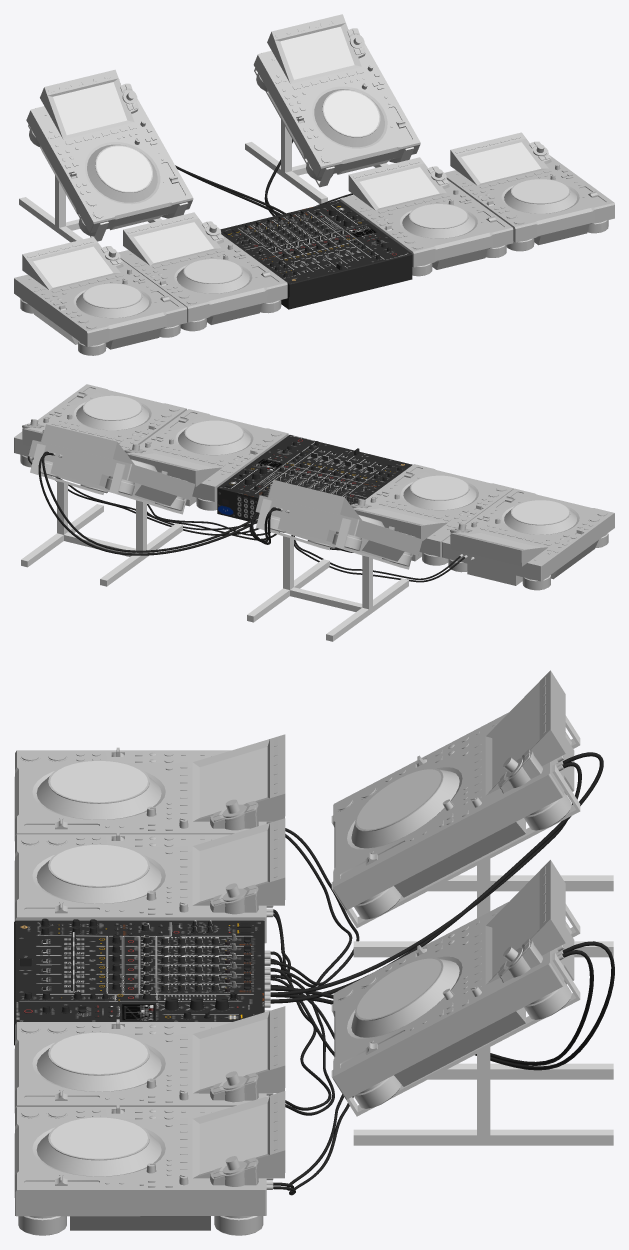
File: Pack6.fbx
3 views of the same model, one above another, from view 1: azimuth 30°, elevation 25°; view 2: azimuth 150°, elevation 25°; view 3: azimuth 270°, elevation 25° (orthographic). The views are drawn at different scales.
Parts seen in each view (by area): view 1: DJM-V10, Stand, Cables; view 2: DJM-V10, Stand, Cables; view 3: DJM-V10, Stand, Cables.
Part boxes in pixels (x1,y1,x2,y2): DJM-V10: [14, 14, 614, 355]; Stand: [19, 51, 413, 242]; Cables: [175, 139, 353, 216]; DJM-V10: [14, 384, 614, 590]; Stand: [21, 443, 412, 641]; Cables: [27, 451, 464, 582]; DJM-V10: [14, 670, 574, 1235]; Stand: [331, 715, 613, 1145]; Cables: [270, 752, 614, 1195].
Size of the model in its own units: 168 by 39.77 by 96.99.
